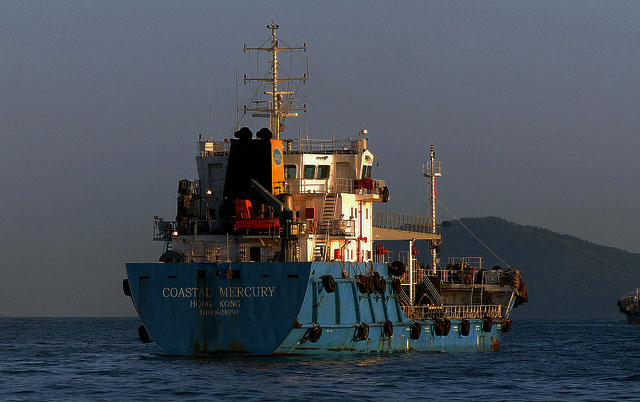tanker: (119, 25, 528, 353)
